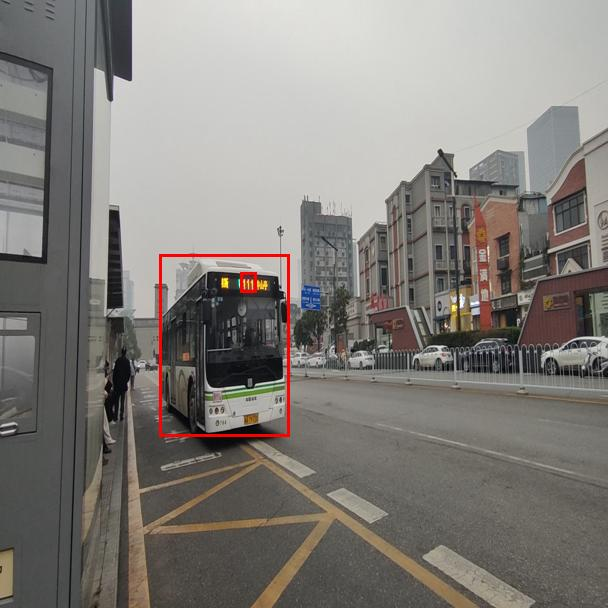bus: (159, 254, 289, 436)
screen: (240, 272, 256, 292)
